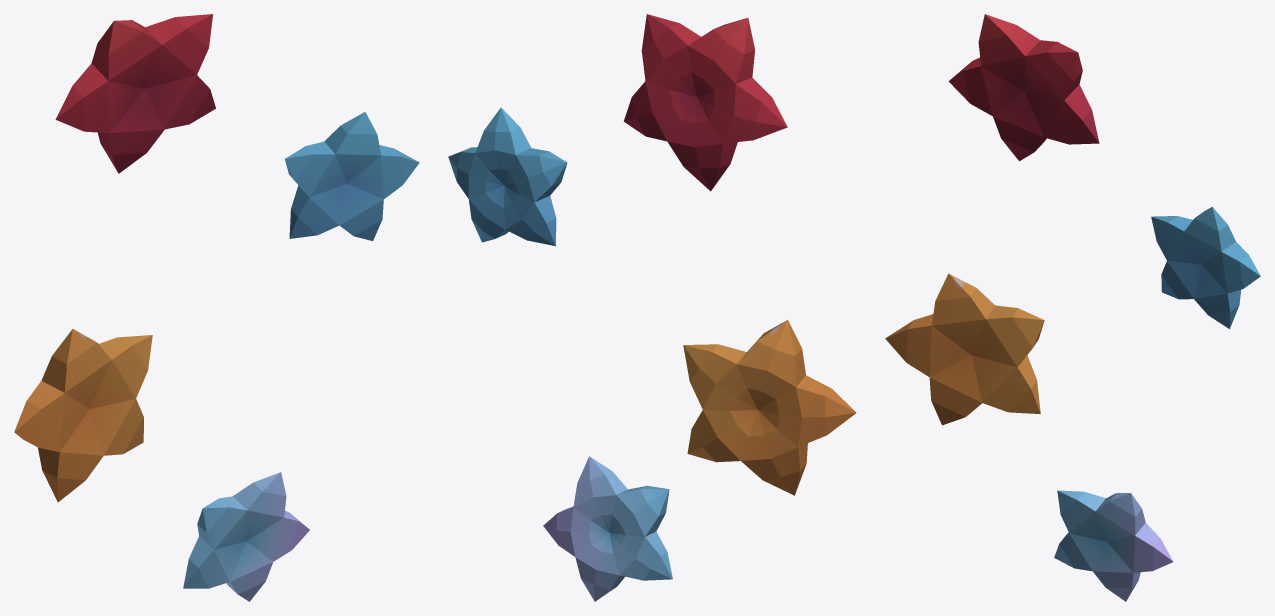
File: Starfish_03.FBX
3 renders of one model, left to right at view 1: azimuth 30°, elevation 25°; view 2: azimuth 150°, elevation 25°; view 3: azimuth 330°, elevation 25°, orthographic. The views are drawn at different scales.
Parts seen in each view (by area): view 1: Starfish_03; view 2: Starfish_03; view 3: Starfish_03.
Part boxes in pixels (x1,y1,x2,y2): Starfish_03: [14, 14, 419, 601]; Starfish_03: [448, 14, 856, 601]; Starfish_03: [885, 14, 1260, 601].
Size of the model in its own units: 2.61 by 3.79 by 0.3401.
